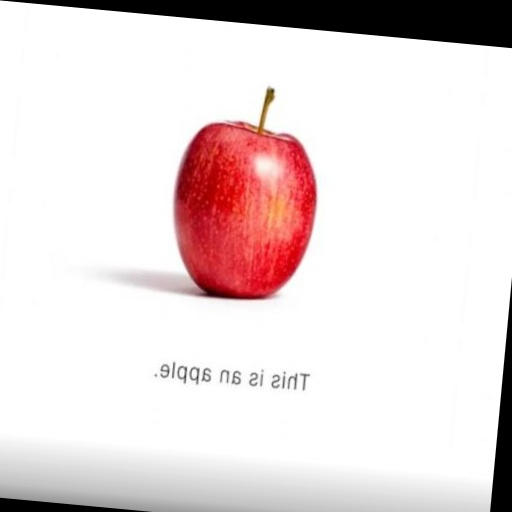fruit: (173, 89, 315, 298)
